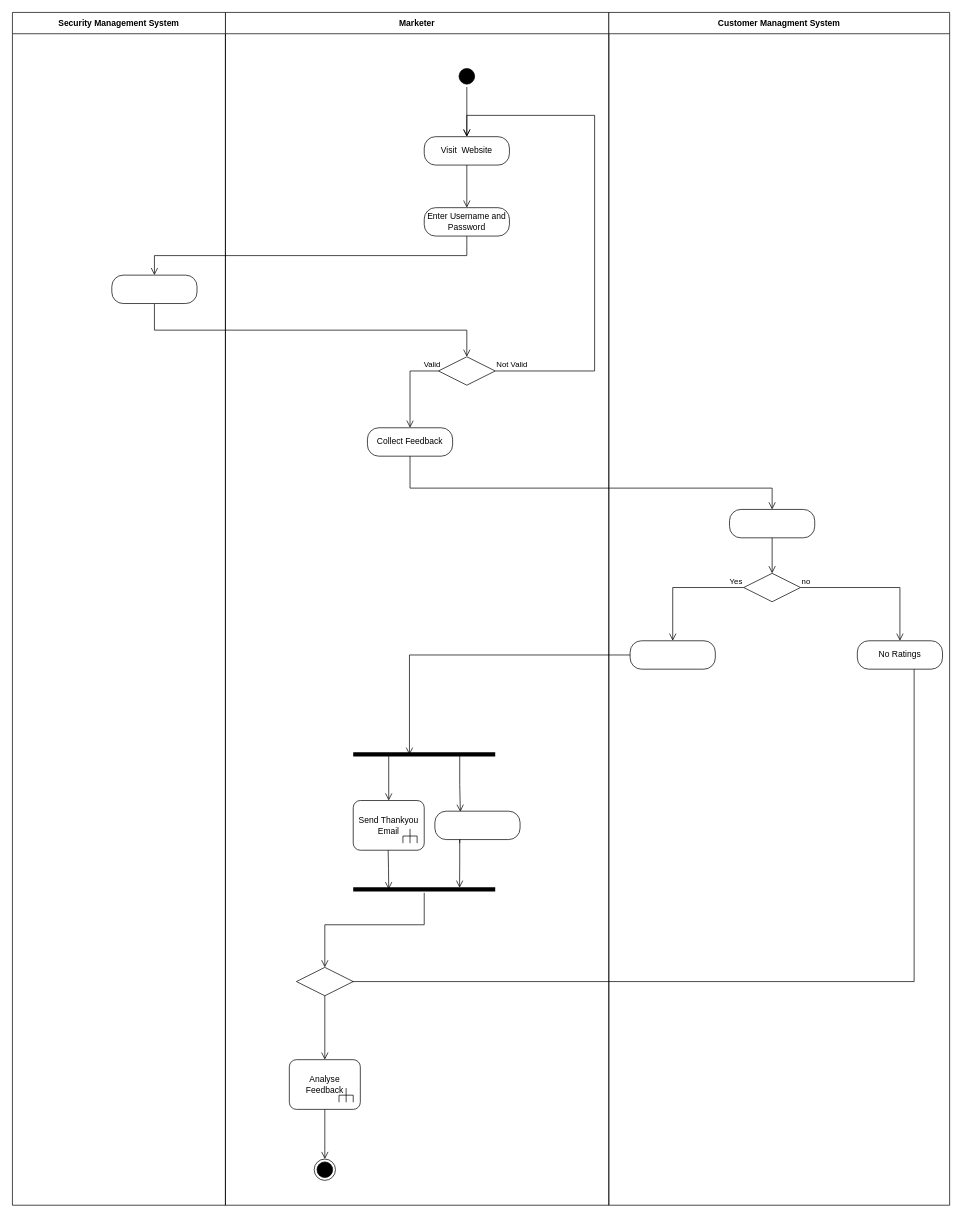
Some shapes in this 962 by 1218 pixel diagram are drawn without their labels. The shapes that lost their labels are listed below. From the top down, each one's centre as x and y in pixels, then its label:
At point (154, 289): "Validate Username and Password".
At point (772, 523): "Check Feedback Ratings".
At point (672, 654): "Ratings Provided".
At point (477, 825): "Enter Ratings to the Report".
